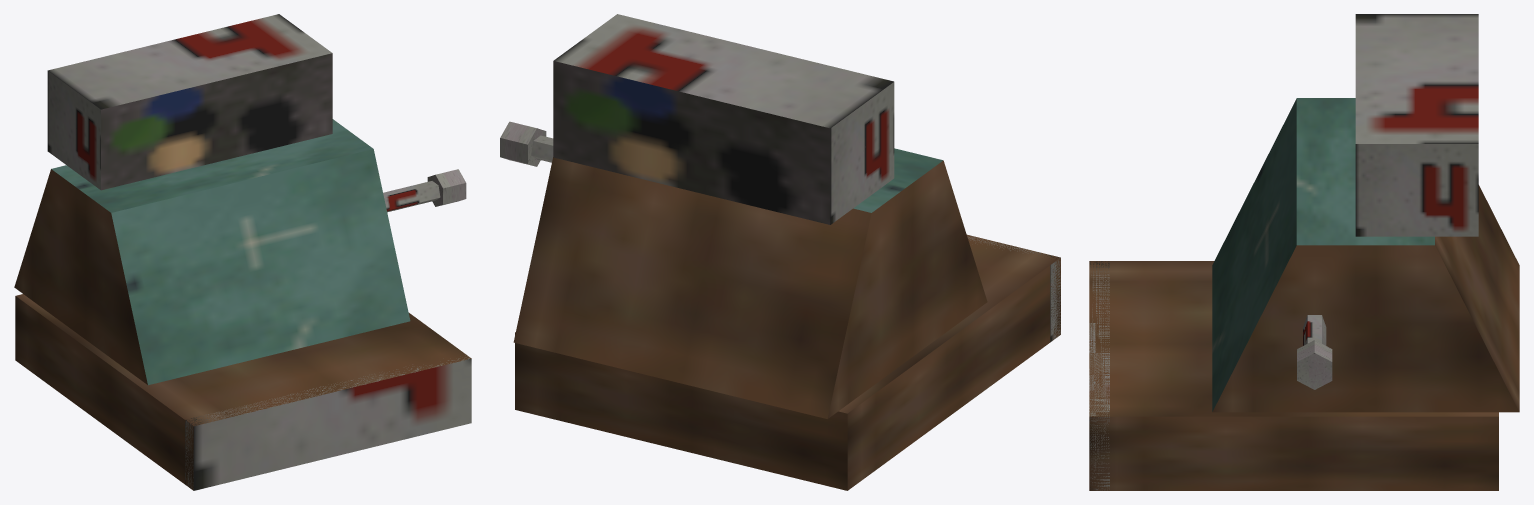
The model's file is cash_register.fbx.
3 views of the same model, side by side, from view 1: azimuth 30°, elevation 25°; view 2: azimuth 150°, elevation 25°; view 3: azimuth 270°, elevation 25° (orthographic). The views are drawn at different scales.
Parts seen in each view (by area): view 1: cash_register; view 2: cash_register; view 3: cash_register.
Boxes of the visible parts, x1,y1,x2,y2 form: cash_register: [14, 14, 471, 490]; cash_register: [500, 14, 1060, 490]; cash_register: [1089, 14, 1519, 490].
Bounding box in the file's own units: 0.47 × 0.36 × 0.42.
